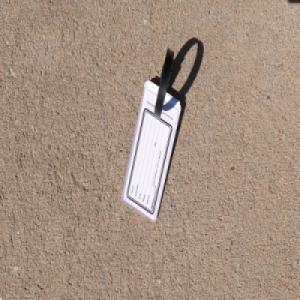LuggageTag: (121, 46, 182, 223)
